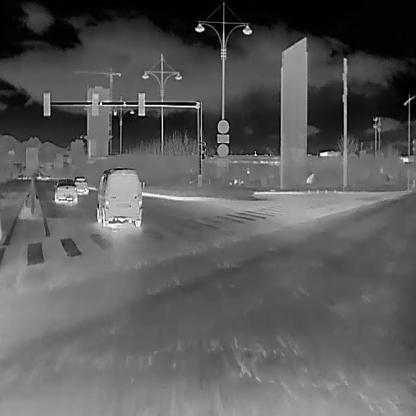car: (96, 167, 143, 227), (53, 178, 77, 204), (73, 176, 88, 194)
